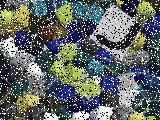Right: (90, 3, 143, 61)
